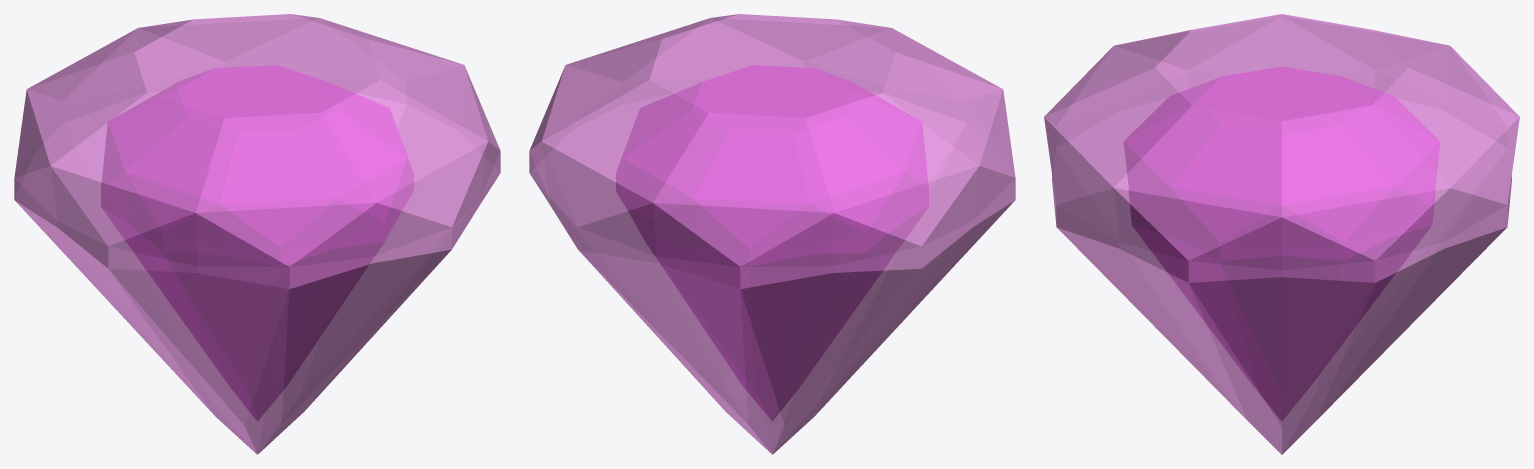
The model's file is Diamond.fbx.
3 renders of one model, left to right at view 1: azimuth 30°, elevation 25°; view 2: azimuth 150°, elevation 25°; view 3: azimuth 270°, elevation 25°, orthographic.
Parts seen in each view (by area): view 1: Diamond; view 2: Diamond; view 3: Diamond.
Part boxes in pixels (x1,y1,x2,y2): Diamond: (14, 14, 500, 454); Diamond: (529, 14, 1015, 454); Diamond: (1044, 14, 1519, 454).
Bounding box in the file's own units: 180 × 162 × 180.
